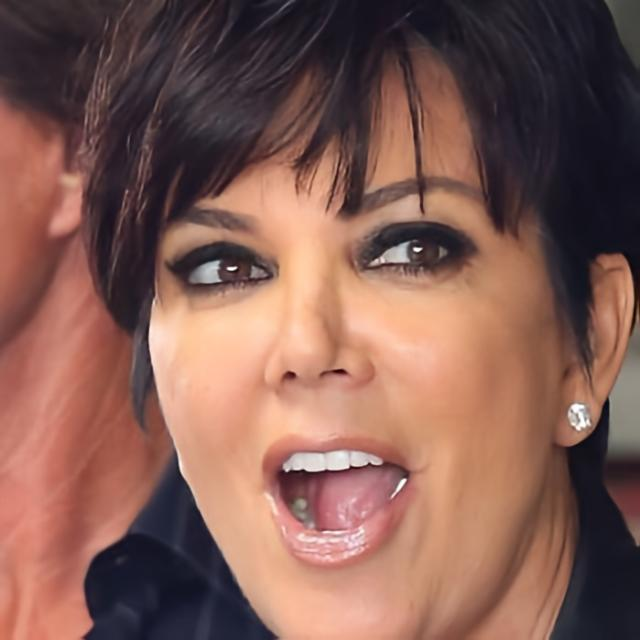surprise: (148, 17, 556, 640)
